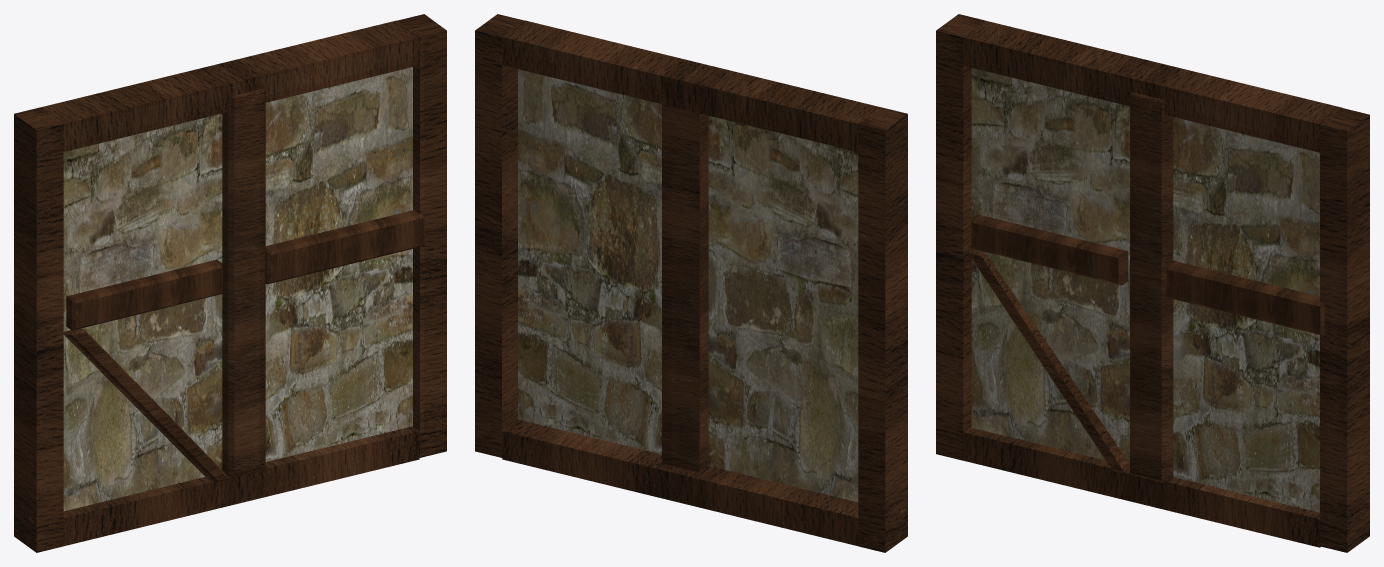
File: BuildingWallTile2.fbx
The picture shows the model from 3 angles, left to right: view 1: azimuth 30°, elevation 25°; view 2: azimuth 150°, elevation 25°; view 3: azimuth 330°, elevation 25°; orthographic projection.
Visible parts, largest first — view 1: polySurface142; view 2: polySurface142; view 3: polySurface142.
Part boxes in pixels (x1,y1,x2,y2): polySurface142: (14,14,446,552); polySurface142: (475,14,907,552); polySurface142: (936,14,1369,552).
Bounding box in the file's own units: 3.7 × 3.65 × 0.3924.
2 materials, 2 textured.
